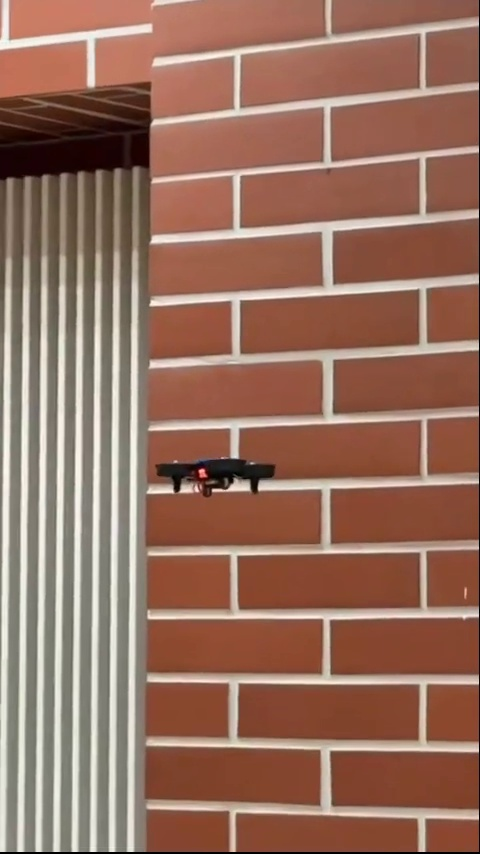drone: (147, 450, 291, 503)
